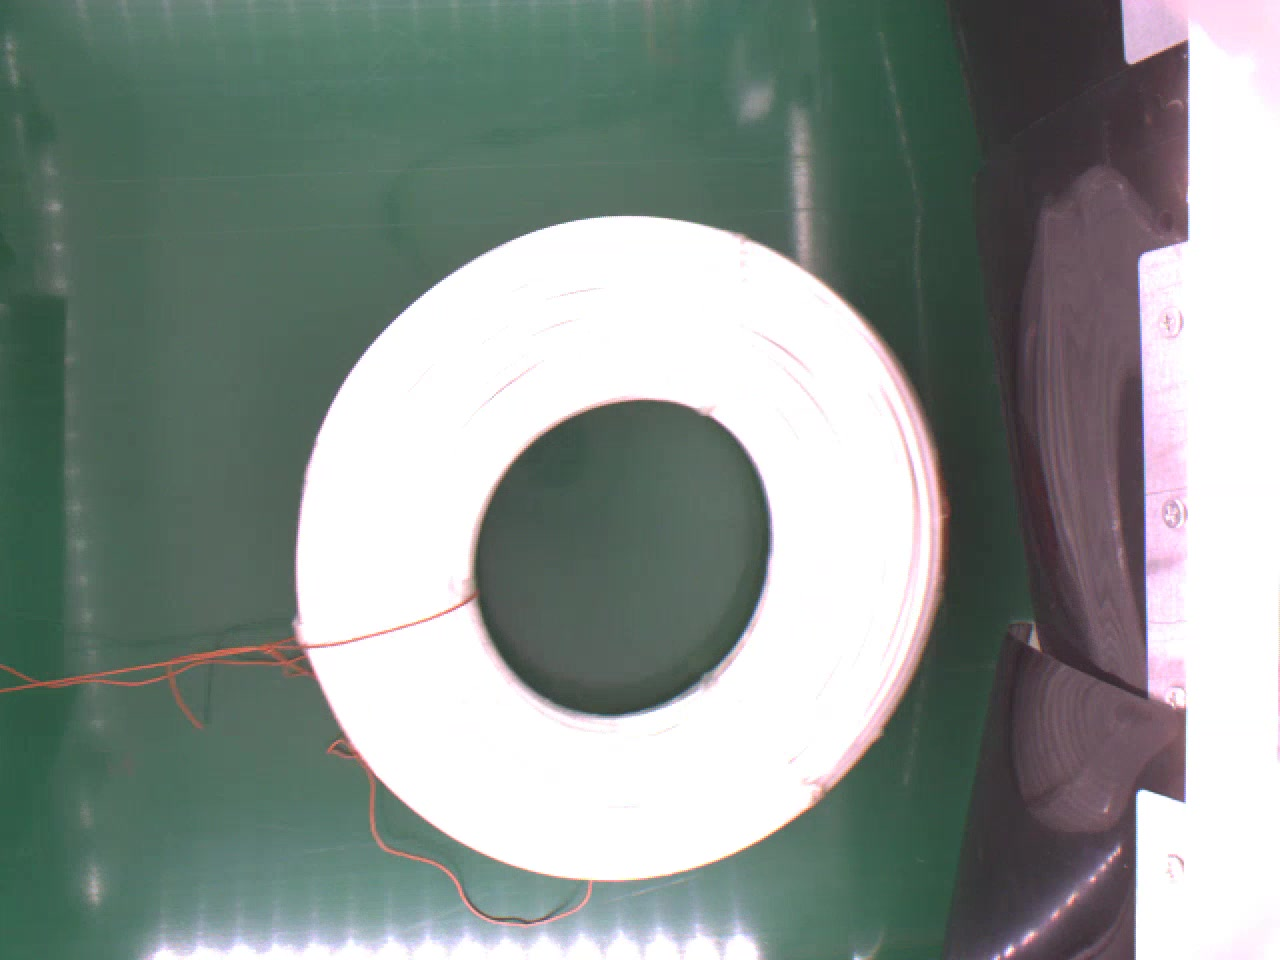white: (289, 206, 967, 877)
